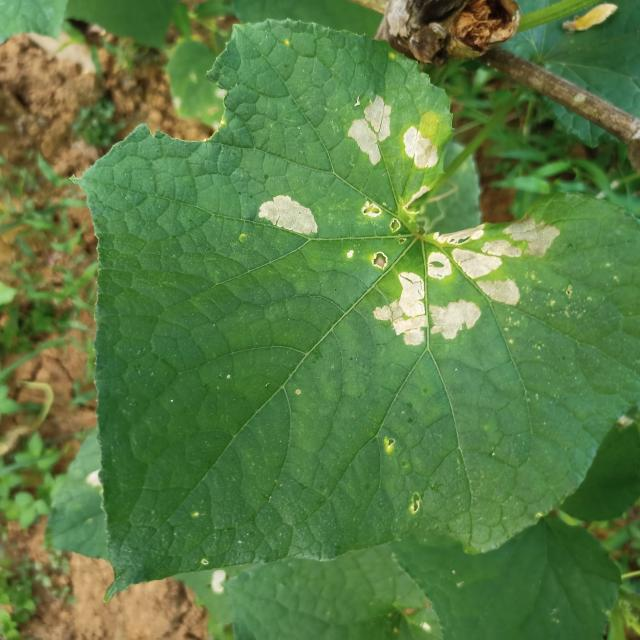disease_cucumber: (368, 211, 569, 347), (346, 92, 394, 168), (257, 194, 320, 237), (402, 124, 440, 170), (358, 201, 402, 235)
